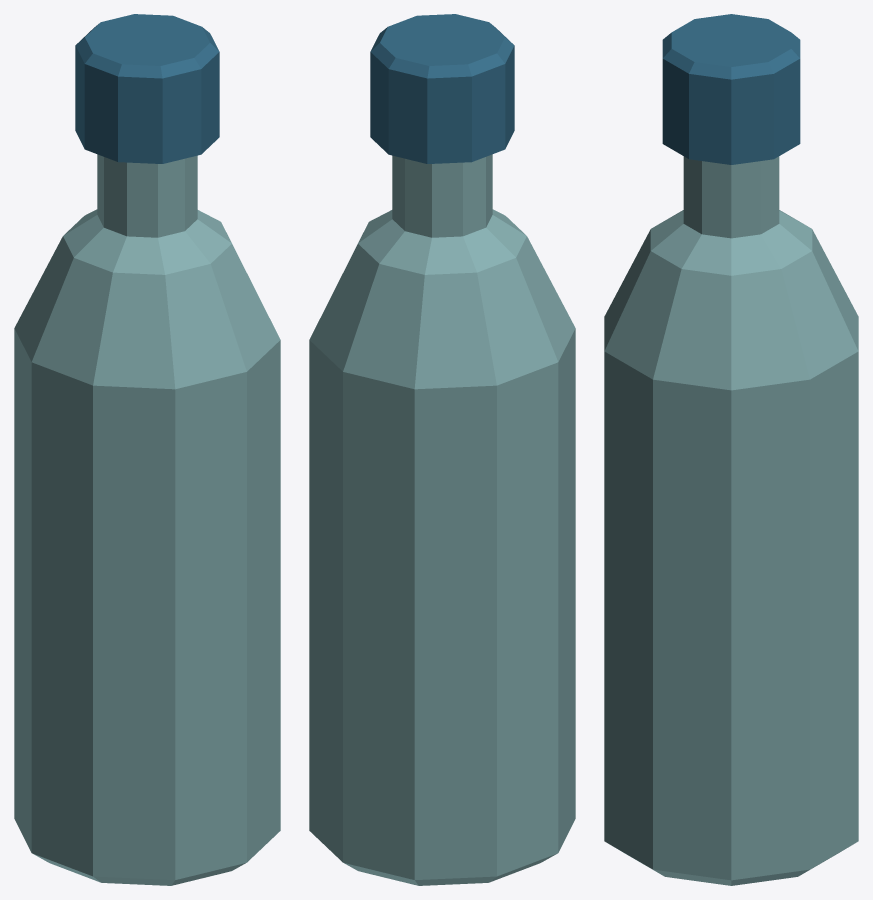
Rendered from bottle.glb.
The picture shows the model from 3 angles, left to right: view 1: azimuth 30°, elevation 25°; view 2: azimuth 150°, elevation 25°; view 3: azimuth 270°, elevation 25°; orthographic projection.
Visible parts, largest first — view 1: Capped opaque bottle; view 2: Capped opaque bottle; view 3: Capped opaque bottle.
Boxes of the visible parts, x1=… form: Capped opaque bottle: x1=14, y1=14, x2=280, y2=885; Capped opaque bottle: x1=309, y1=14, x2=575, y2=885; Capped opaque bottle: x1=604, y1=14, x2=858, y2=885.
Bounding box in the file's own units: 0.085 × 0.28 × 0.0808.
